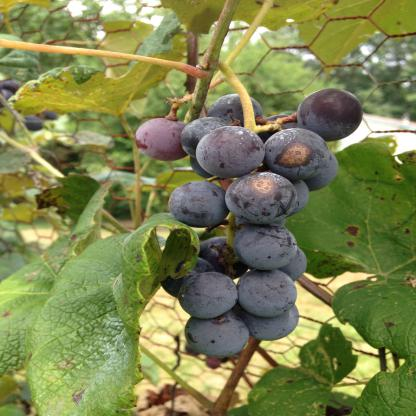Grape: (133, 88, 361, 358)
